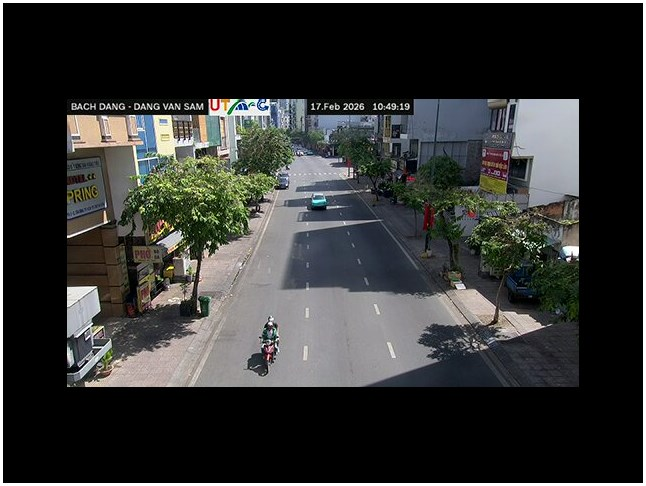car: (310, 194, 328, 210)
truck: (67, 285, 114, 385)
